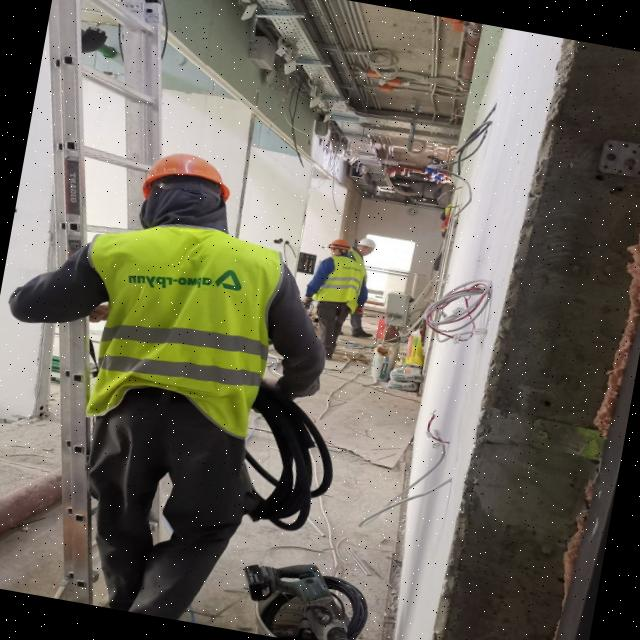Helmet: (144, 148, 238, 209), (329, 239, 351, 252), (358, 238, 379, 251)
Jacket: (81, 214, 282, 432), (321, 255, 365, 310)
